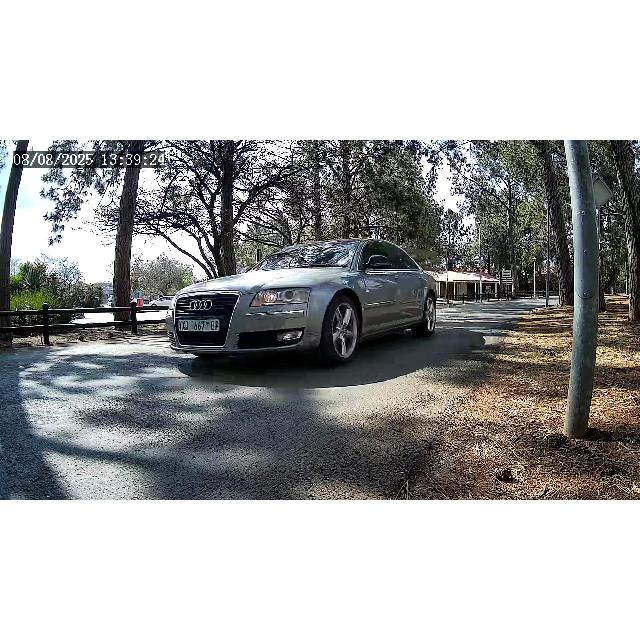car: (170, 238, 438, 366)
plate: (177, 318, 221, 332)
